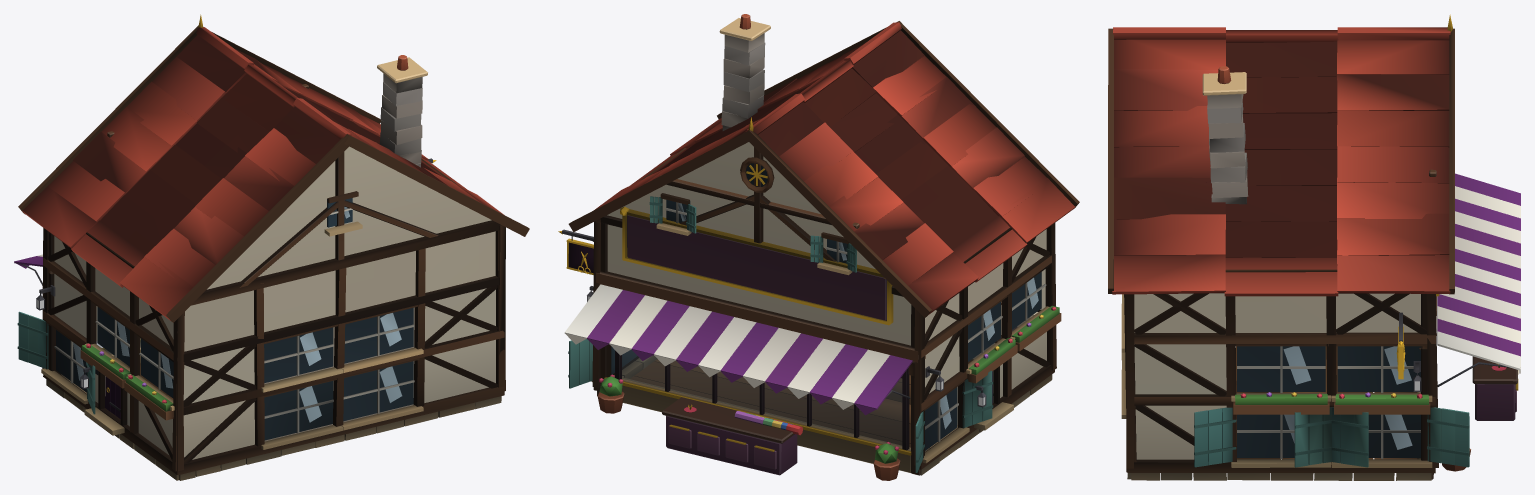
Rendered from HD_RagwortWardrobe.fbx.
3 renders of one model, left to right at view 1: azimuth 30°, elevation 25°; view 2: azimuth 150°, elevation 25°; view 3: azimuth 270°, elevation 25°, orthographic. The views are drawn at different scales.
Parts seen in each view (by area): view 1: HD_RagwortWardrobe_2_SmoothPlastic, HD_RagwortWardrobe_4_Wood, HD_RagwortWardrobe_1_Sandstone, HD_RagwortWardrobe_5_Wood, HD_RagwortWardrobe_7_Cobblestone, HD_RagwortWardrobe_3_SmoothPlastic, HD_RagwortWardrobe_6_Metal; view 2: HD_RagwortWardrobe_2_SmoothPlastic, HD_RagwortWardrobe_4_Wood, HD_RagwortWardrobe_5_Wood, HD_RagwortWardrobe_8_Glass, HD_RagwortWardrobe_1_Sandstone, HD_RagwortWardrobe_6_Metal, HD_RagwortWardrobe_7_Cobblestone, HD_RagwortWardrobe_3_SmoothPlastic; view 3: HD_RagwortWardrobe_2_SmoothPlastic, HD_RagwortWardrobe_4_Wood, HD_RagwortWardrobe_1_Sandstone, HD_RagwortWardrobe_5_Wood, HD_RagwortWardrobe_7_Cobblestone, HD_RagwortWardrobe_6_Metal.
Part boxes in pixels (left/top/right/bottom): HD_RagwortWardrobe_2_SmoothPlastic: left=14, top=27, right=503, bottom=459; HD_RagwortWardrobe_4_Wood: left=17, top=134, right=529, bottom=475; HD_RagwortWardrobe_1_Sandstone: left=41, top=57, right=501, bottom=480; HD_RagwortWardrobe_5_Wood: left=18, top=25, right=438, bottom=399; HD_RagwortWardrobe_7_Cobblestone: left=379, top=73, right=422, bottom=167; HD_RagwortWardrobe_3_SmoothPlastic: left=264, top=307, right=414, bottom=441; HD_RagwortWardrobe_6_Metal: left=20, top=14, right=436, bottom=411; HD_RagwortWardrobe_2_SmoothPlastic: left=564, top=14, right=1075, bottom=480; HD_RagwortWardrobe_4_Wood: left=568, top=21, right=1079, bottom=475; HD_RagwortWardrobe_5_Wood: left=568, top=130, right=1001, bottom=475; HD_RagwortWardrobe_8_Glass: left=622, top=350, right=902, bottom=446; HD_RagwortWardrobe_1_Sandstone: left=591, top=18, right=1052, bottom=475; HD_RagwortWardrobe_6_Metal: left=558, top=117, right=993, bottom=455; HD_RagwortWardrobe_7_Cobblestone: left=721, top=33, right=765, bottom=130; HD_RagwortWardrobe_3_SmoothPlastic: left=597, top=305, right=1032, bottom=454; HD_RagwortWardrobe_2_SmoothPlastic: left=1112, top=27, right=1520, bottom=459; HD_RagwortWardrobe_4_Wood: left=1108, top=28, right=1469, bottom=479; HD_RagwortWardrobe_1_Sandstone: left=1121, top=72, right=1432, bottom=480; HD_RagwortWardrobe_5_Wood: left=1236, top=28, right=1517, bottom=459; HD_RagwortWardrobe_7_Cobblestone: left=1207, top=94, right=1248, bottom=204; HD_RagwortWardrobe_6_Metal: left=1396, top=14, right=1518, bottom=391.
Size of the model in its own units: 41.82 by 33.34 by 32.8.
